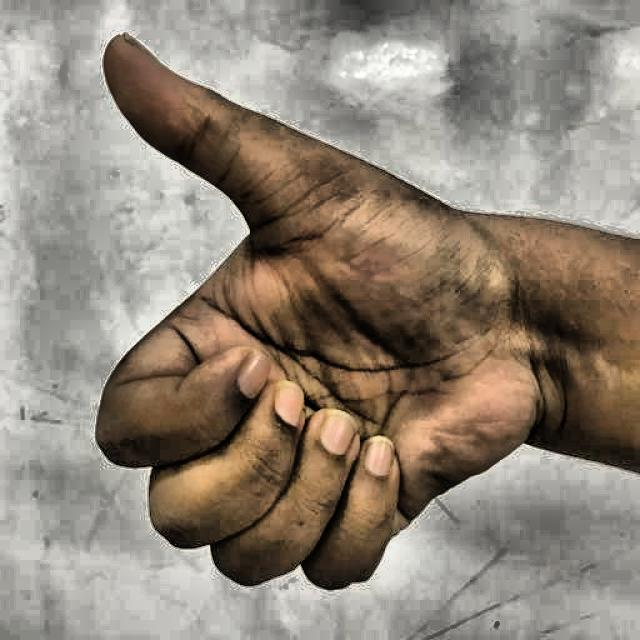Do: (54, 24, 540, 610)
